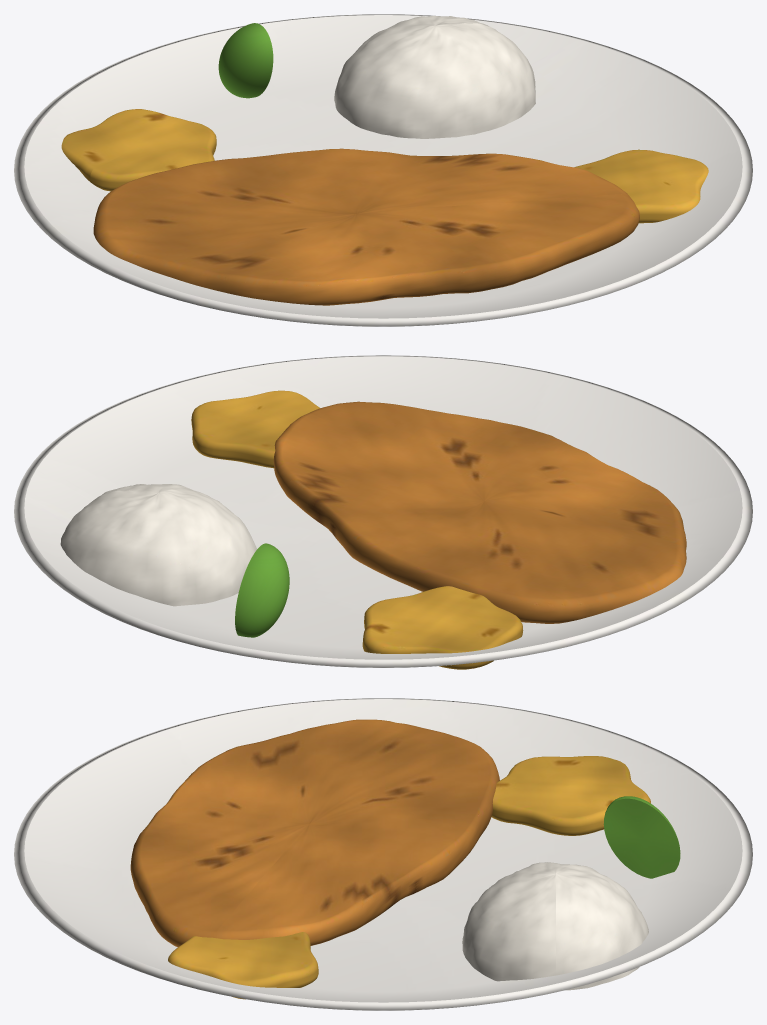
File: chuleta-valluna.glb
The picture shows the model from 3 angles, top to bottom: view 1: azimuth 30°, elevation 25°; view 2: azimuth 150°, elevation 25°; view 3: azimuth 270°, elevation 25°; orthographic projection.
Parts seen in each view (by area): view 1: plato, chuleta, arroz, patacones, limon; view 2: plato, chuleta, arroz, patacones, limon; view 3: plato, chuleta, arroz, patacones, limon.
Part boxes in pixels (x1=…): plato: x1=14, y1=14, x2=752, y2=326; chuleta: x1=93, y1=148, x2=639, y2=305; arroz: x1=334, y1=15, x2=535, y2=138; patacones: x1=61, y1=109, x2=708, y2=223; limon: x1=218, y1=23, x2=273, y2=98; plato: x1=14, y1=355, x2=752, y2=667; chuleta: x1=273, y1=401, x2=686, y2=623; arroz: x1=60, y1=484, x2=256, y2=606; patacones: x1=191, y1=390, x2=523, y2=669; limon: x1=235, y1=543, x2=289, y2=637; plato: x1=14, y1=698, x2=752, y2=1010; chuleta: x1=130, y1=719, x2=499, y2=947; arroz: x1=462, y1=862, x2=648, y2=990; patacones: x1=168, y1=756, x2=650, y2=999; limon: x1=603, y1=796, x2=680, y2=878.
Bounding box in the file's own units: 0.3 × 0.0424 × 0.3.
Materials: 5 (5 with a texture image).
